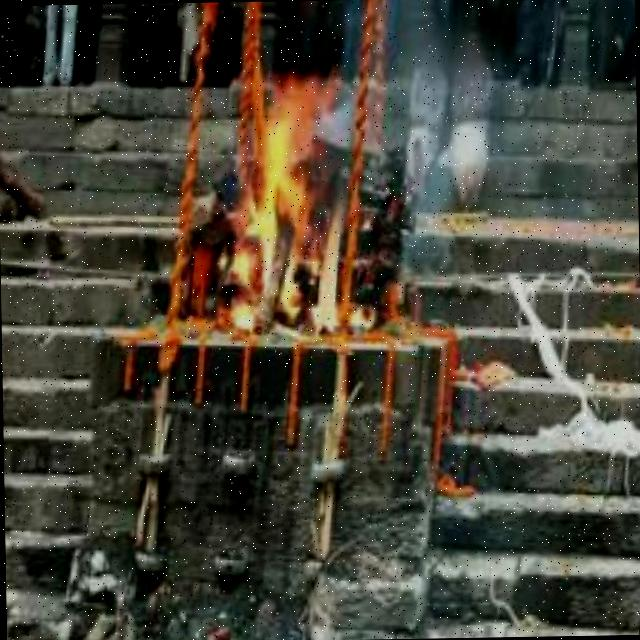fire: (217, 57, 374, 342)
